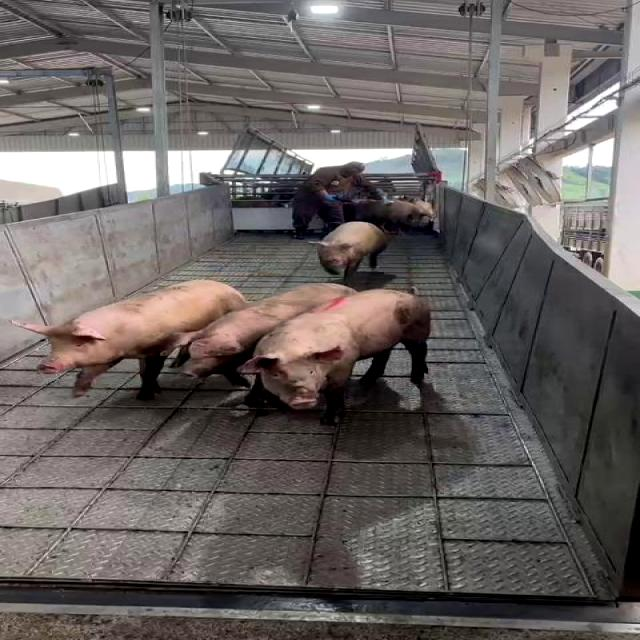pig: (14, 280, 245, 398), (243, 289, 429, 424), (176, 284, 355, 383), (316, 221, 390, 279)
